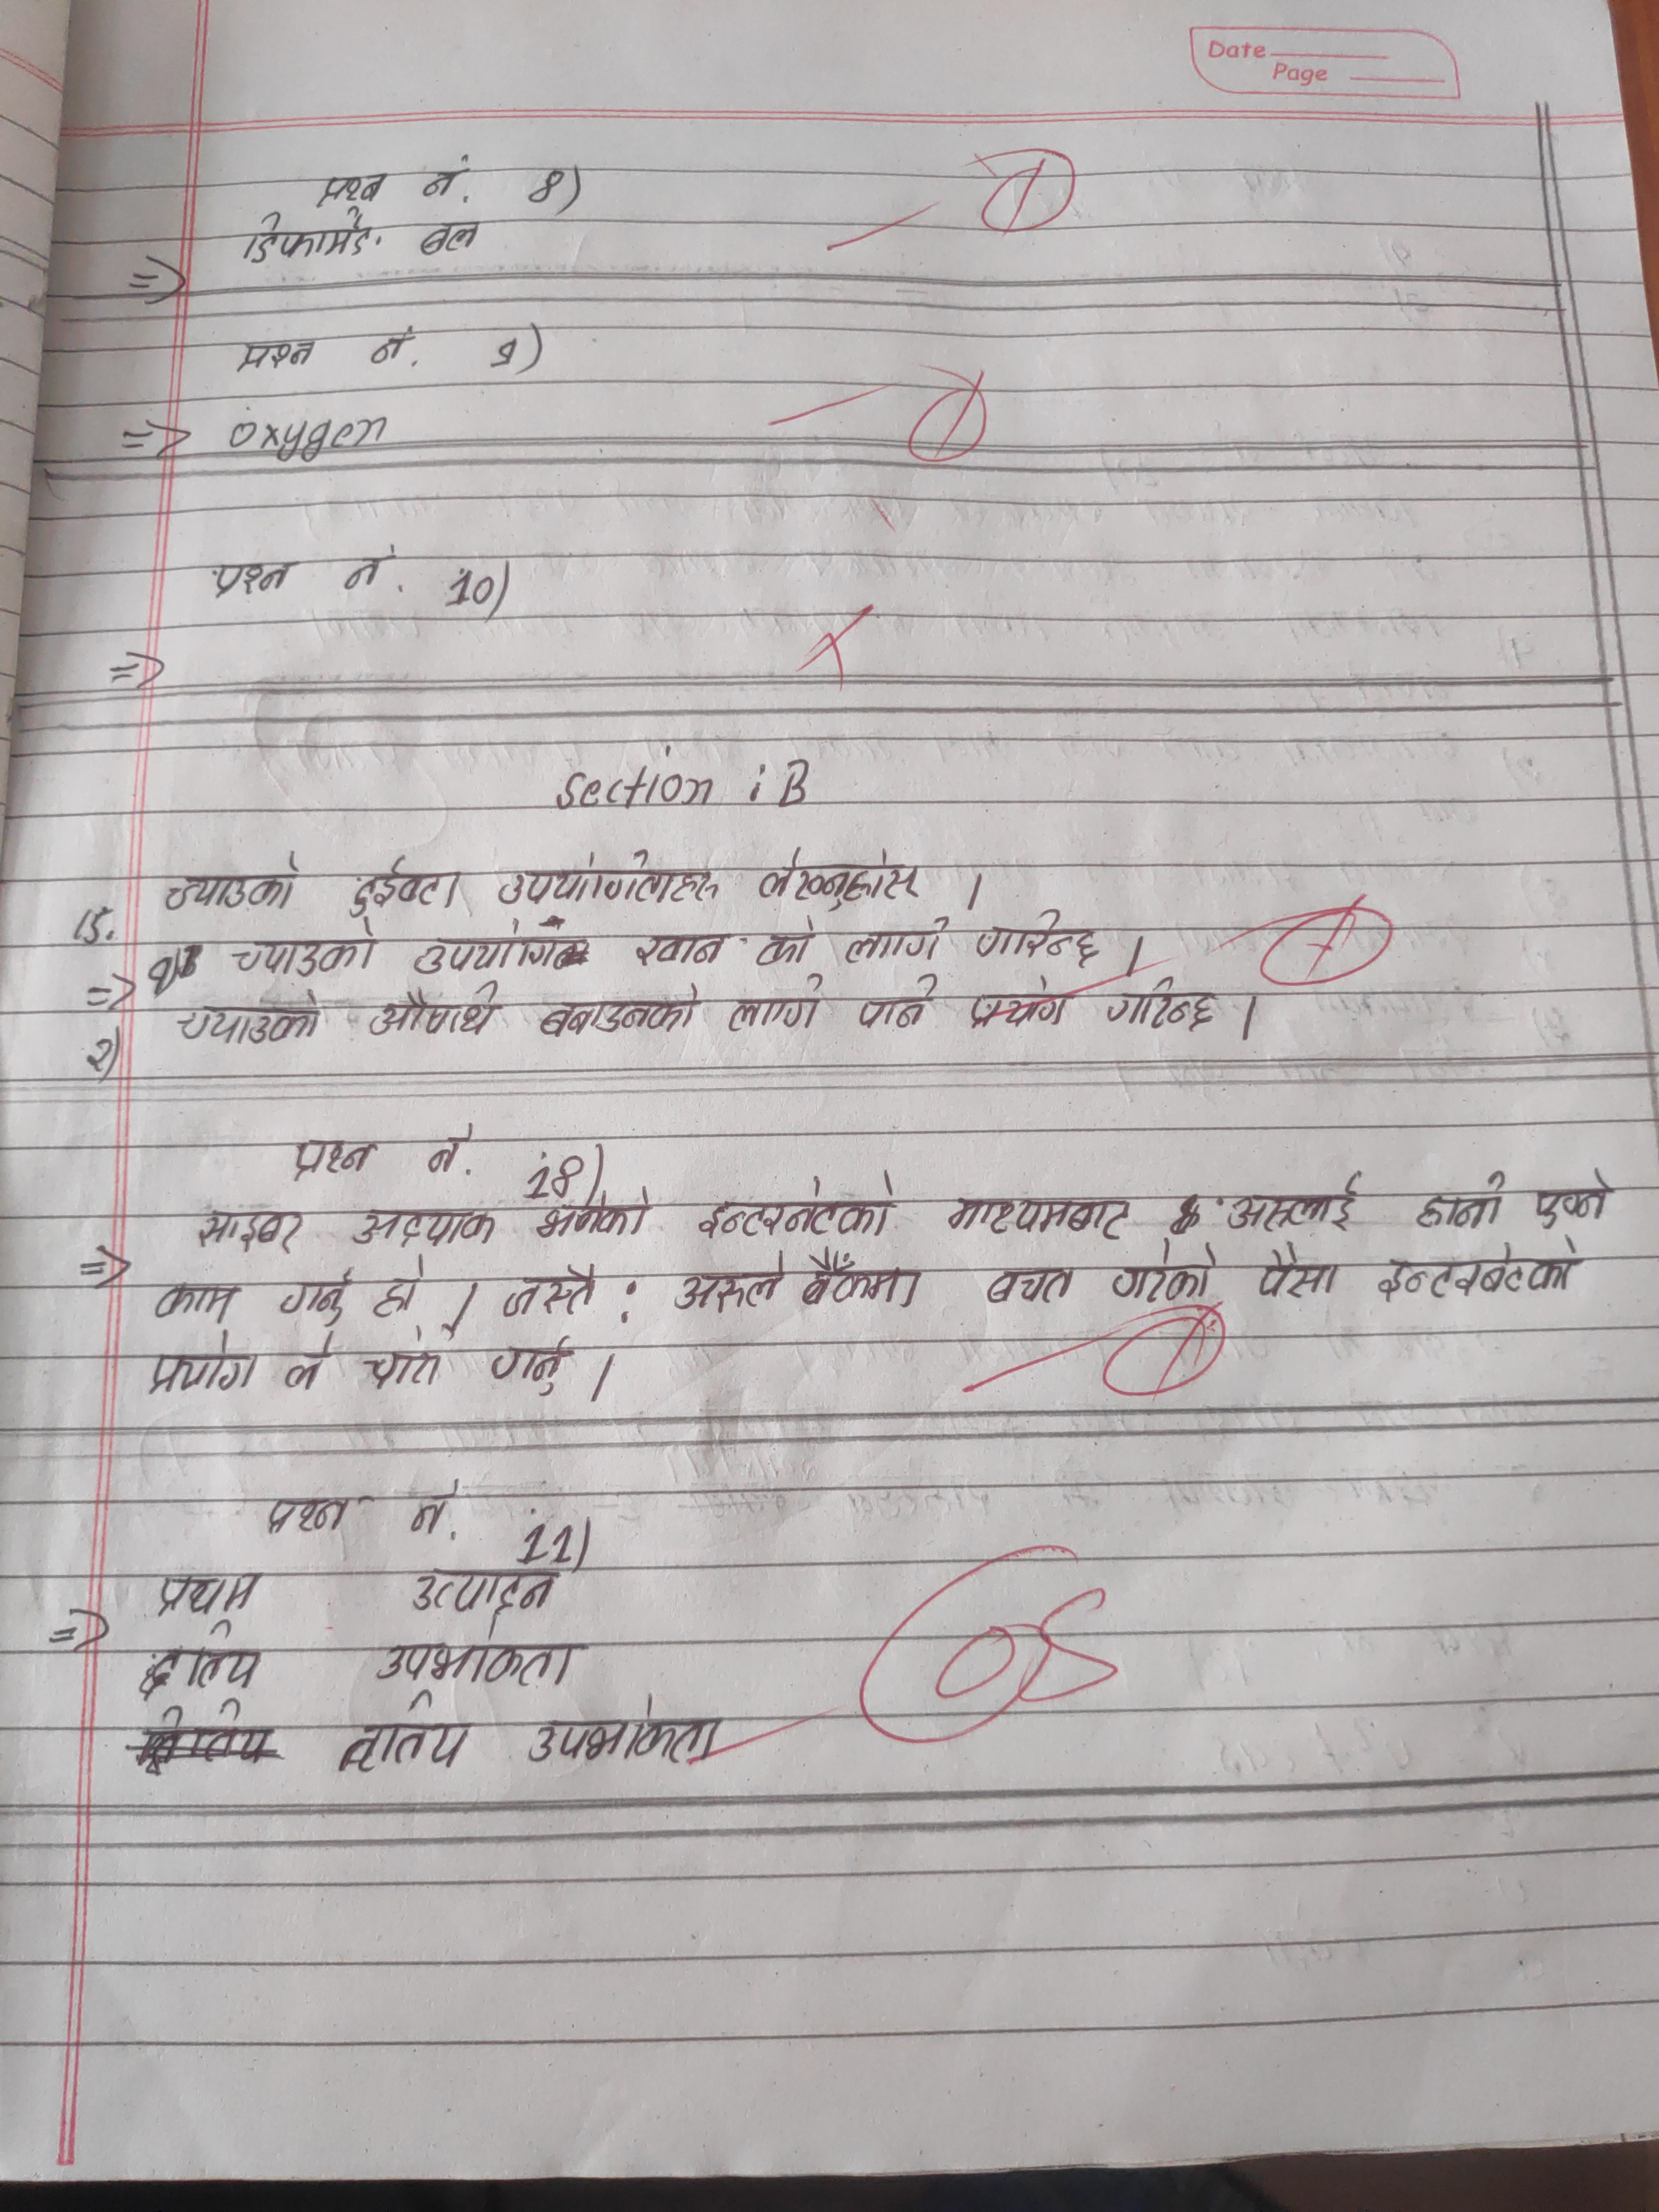text: (525, 1693, 730, 1768), (373, 1620, 586, 1686), (695, 1172, 903, 1238), (1377, 1240, 1589, 1303), (495, 848, 723, 904), (335, 1695, 471, 1778), (755, 846, 925, 913), (943, 1190, 1133, 1244), (134, 1622, 265, 1700), (227, 914, 383, 979), (1225, 1170, 1368, 1235), (411, 920, 584, 972), (538, 986, 699, 1040), (798, 1245, 925, 1312), (173, 993, 322, 1049), (969, 907, 1101, 970), (143, 1331, 260, 1395), (674, 1247, 784, 1315), (242, 207, 380, 261), (164, 859, 303, 911), (1107, 1240, 1225, 1301), (366, 986, 502, 1038), (532, 1186, 659, 1240), (1105, 972, 1220, 1031), (345, 862, 467, 918), (188, 1205, 312, 1258), (723, 975, 830, 1035), (354, 1209, 498, 1251), (1249, 1238, 1345, 1301), (500, 1264, 603, 1322), (967, 974, 1072, 1029), (842, 913, 943, 970), (483, 1336, 575, 1399), (1417, 1172, 1514, 1231), (404, 1573, 558, 1609), (854, 972, 943, 1035), (150, 1571, 268, 1616), (1532, 1172, 1614, 1231), (282, 1134, 375, 1183), (153, 1277, 242, 1325), (260, 1493, 354, 1538), (279, 1268, 350, 1325), (983, 1263, 1080, 1305), (369, 1254, 427, 1324), (631, 930, 730, 970), (749, 913, 816, 970), (207, 557, 301, 597), (362, 1343, 450, 1385), (235, 336, 319, 378), (277, 1339, 335, 1395), (429, 1125, 484, 1177), (415, 216, 486, 254), (403, 1489, 451, 1541), (335, 554, 392, 594), (317, 174, 385, 207), (422, 162, 472, 200), (369, 331, 420, 369)
